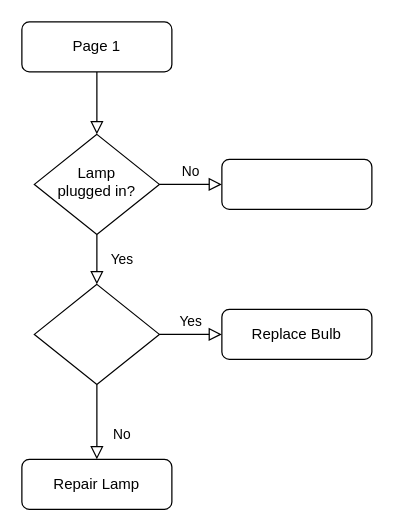
The diagram is 394 pixels wide and 531 high, and some of its shapes have lost their labels. The shapes that lost their labels are listed below. From the top down, each one's centre as x and y in pixels, then its label:
the point at 296,183: Plug in lamp
the point at 96,333: Bulb burned out?
